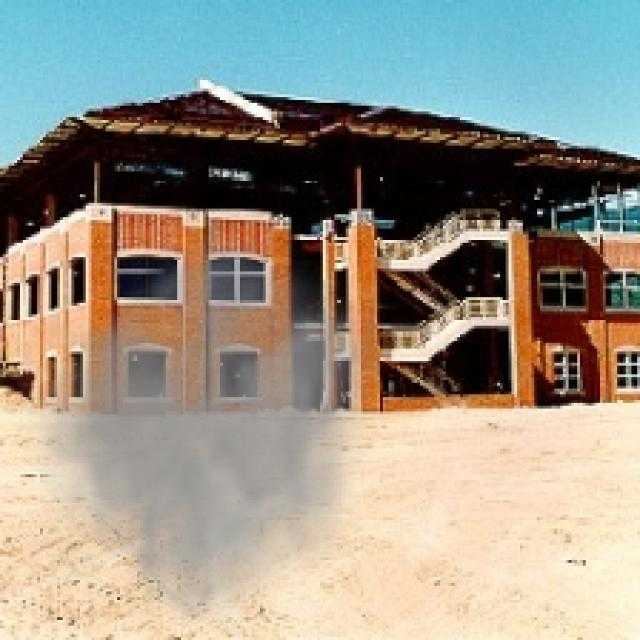smoke: (0, 214, 380, 637)
